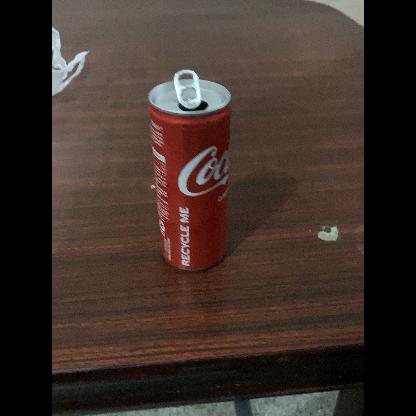Lid_Open: (167, 66, 214, 116)
Tin_Can: (147, 67, 239, 281)
